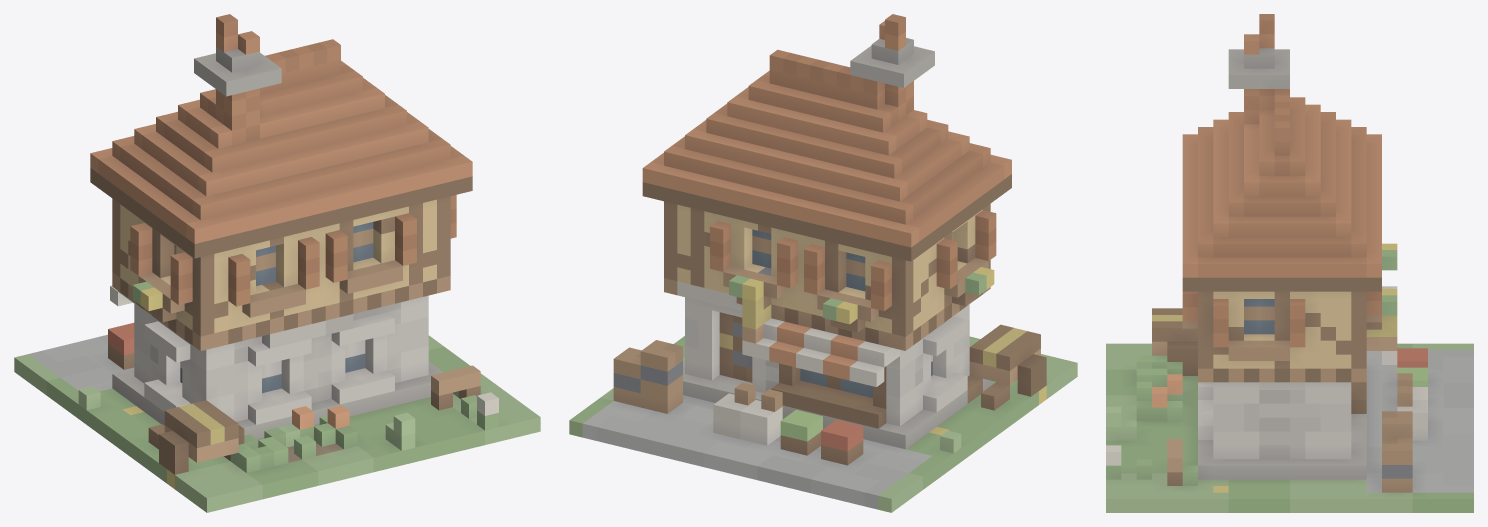
The model's file is house_citizens.v2.glb.
3 renders of one model, left to right at view 1: azimuth 30°, elevation 25°; view 2: azimuth 150°, elevation 25°; view 3: azimuth 270°, elevation 25°, orthographic. The views are drawn at different scales.
Visible parts, largest first — view 1: house_citizens; view 2: house_citizens; view 3: house_citizens.
Part boxes in pixels (bbox=[...]): house_citizens: bbox=[14, 14, 540, 512]; house_citizens: bbox=[569, 14, 1077, 512]; house_citizens: bbox=[1106, 14, 1473, 512].
Bounding box in the file's own units: 3 × 3.5 × 3.
